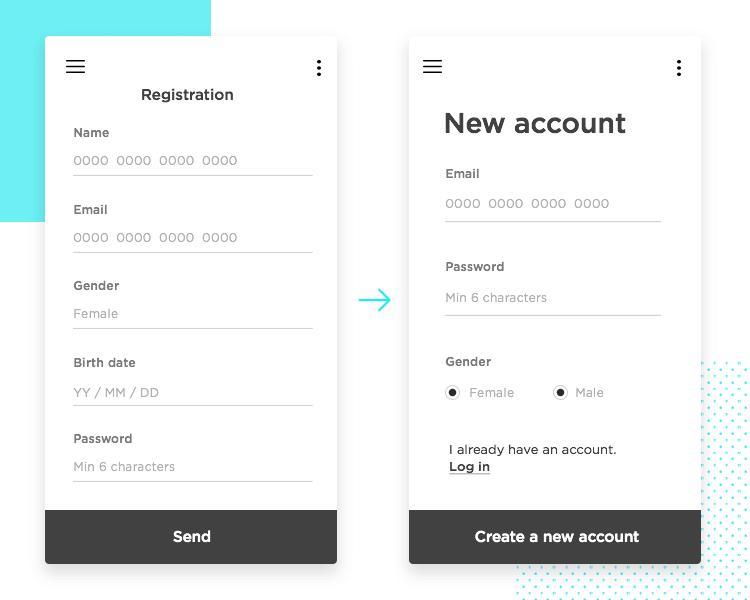button: (411, 510, 704, 565), (46, 511, 339, 564)
icon: (64, 58, 94, 80), (420, 56, 446, 79), (671, 57, 693, 84), (310, 55, 329, 83)
label: (70, 354, 139, 372), (441, 261, 510, 275), (73, 432, 135, 447), (72, 278, 122, 295), (443, 165, 486, 184), (71, 126, 114, 141), (444, 356, 496, 368), (469, 388, 517, 401), (72, 204, 112, 219), (577, 386, 606, 400)
radio: (446, 382, 462, 404), (552, 384, 568, 402)
